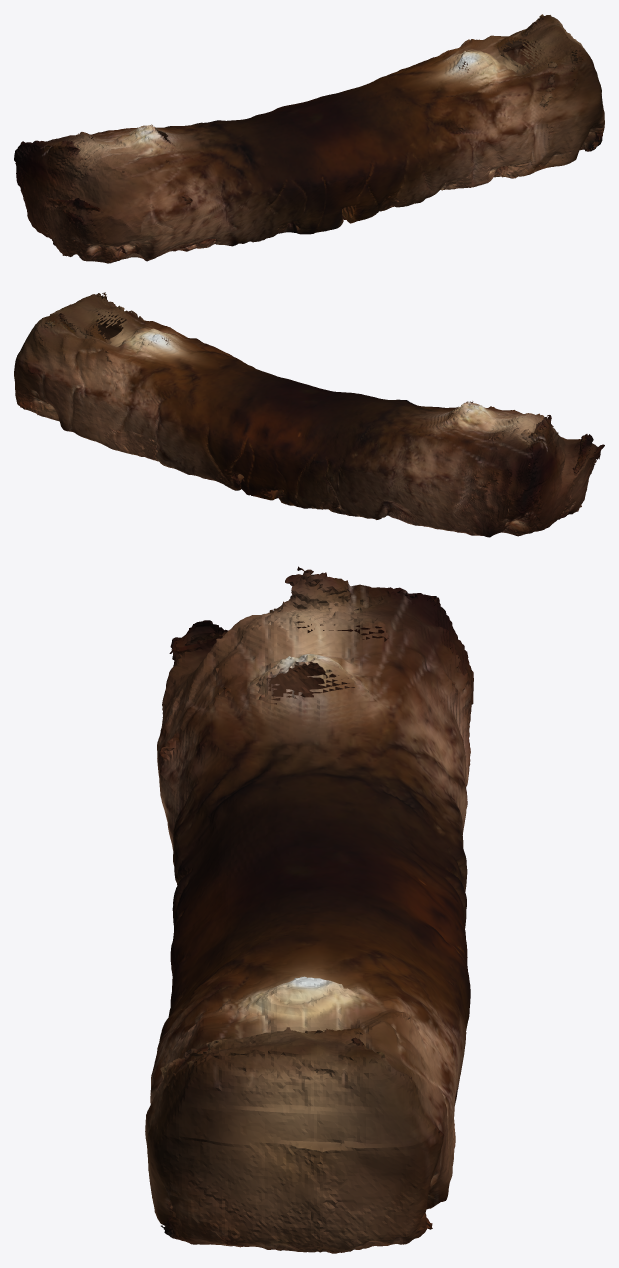
File: burrow-main-interior.glb
3 renders of one model, top to bottom at view 1: azimuth 30°, elevation 25°; view 2: azimuth 150°, elevation 25°; view 3: azimuth 270°, elevation 25°, orthographic. The views are drawn at different scales.
Visible parts, largest first — view 1: 主洞mesh; view 2: 主洞mesh; view 3: 主洞mesh.
Part boxes in pixels (<box>): 主洞mesh: <box>14,14,604,263</box>; 主洞mesh: <box>14,292,604,537</box>; 主洞mesh: <box>145,566,473,1253</box>.
Bounding box in the file's own units: 20.23 × 4.5 × 5.36.
